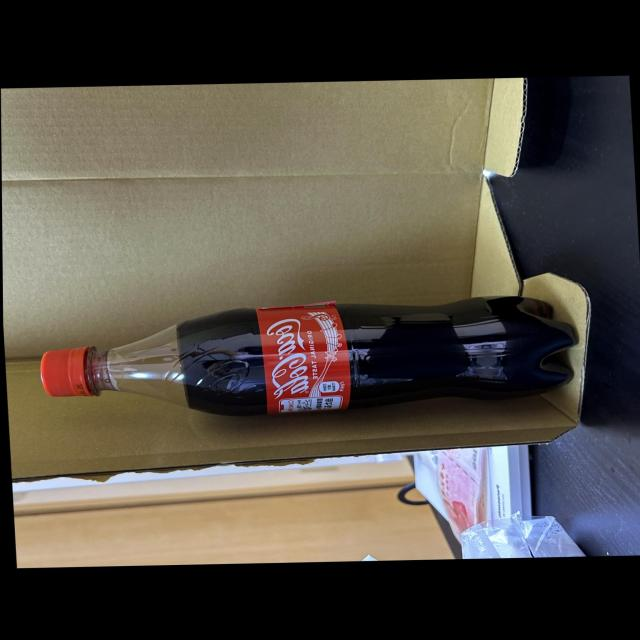high: (41, 296, 577, 417)
